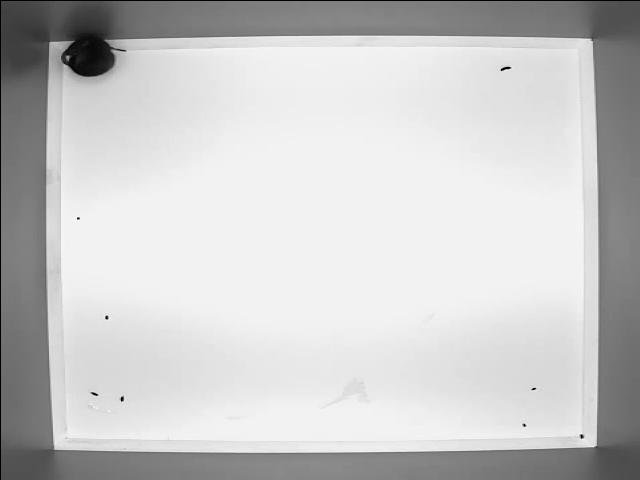Tikus: (59, 32, 125, 76)
